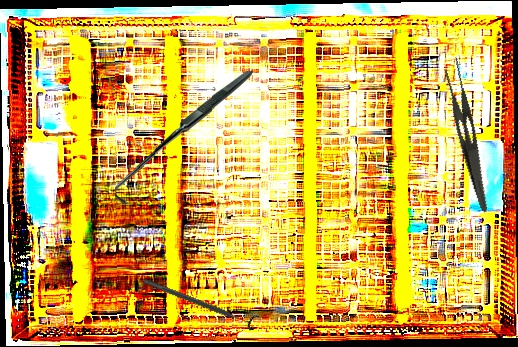Dressing Forceps: (434, 55, 506, 214)
Fixation Ring: (140, 272, 260, 332)
Hook Surgical: (112, 70, 255, 205)
